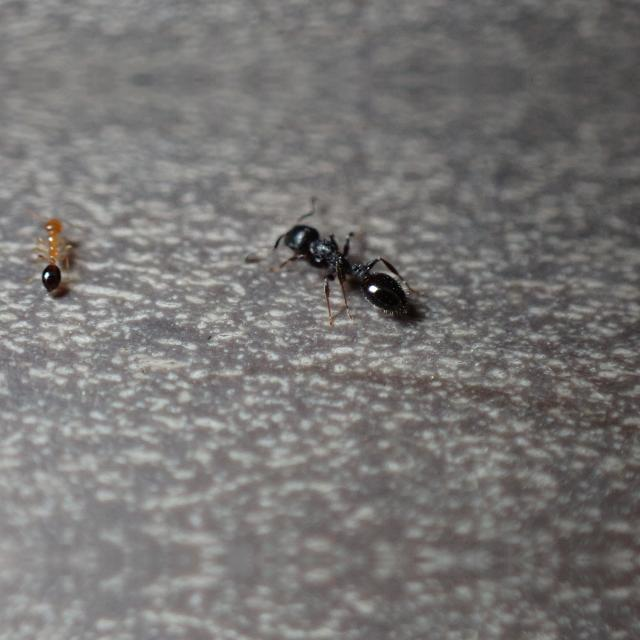Temnothorax: (252, 198, 438, 328), (23, 202, 91, 298)
